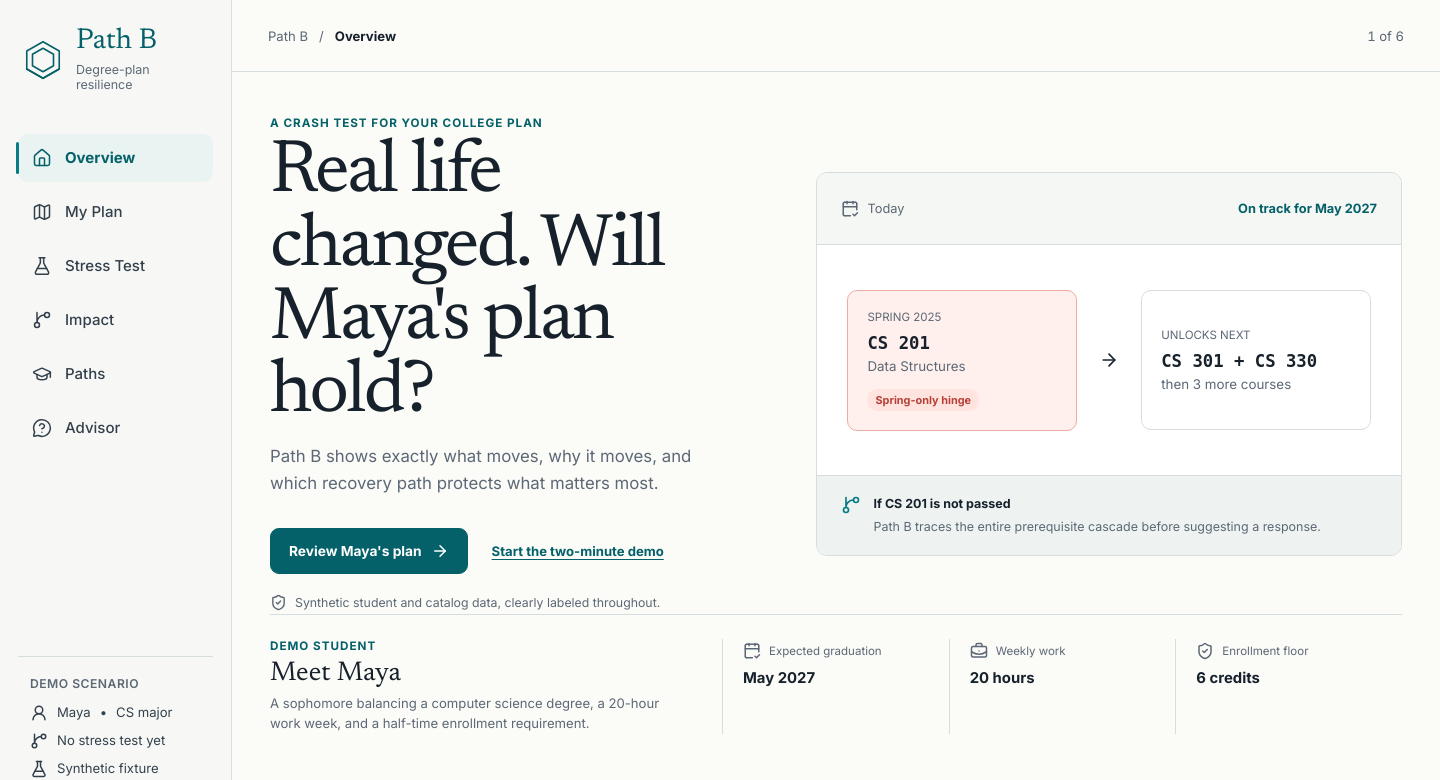
App › clears the scenario and returns to the stress test
The image size is (1440, 780).
Click the link "Start the two-minute demo": (578,551) [492,543,664,559]
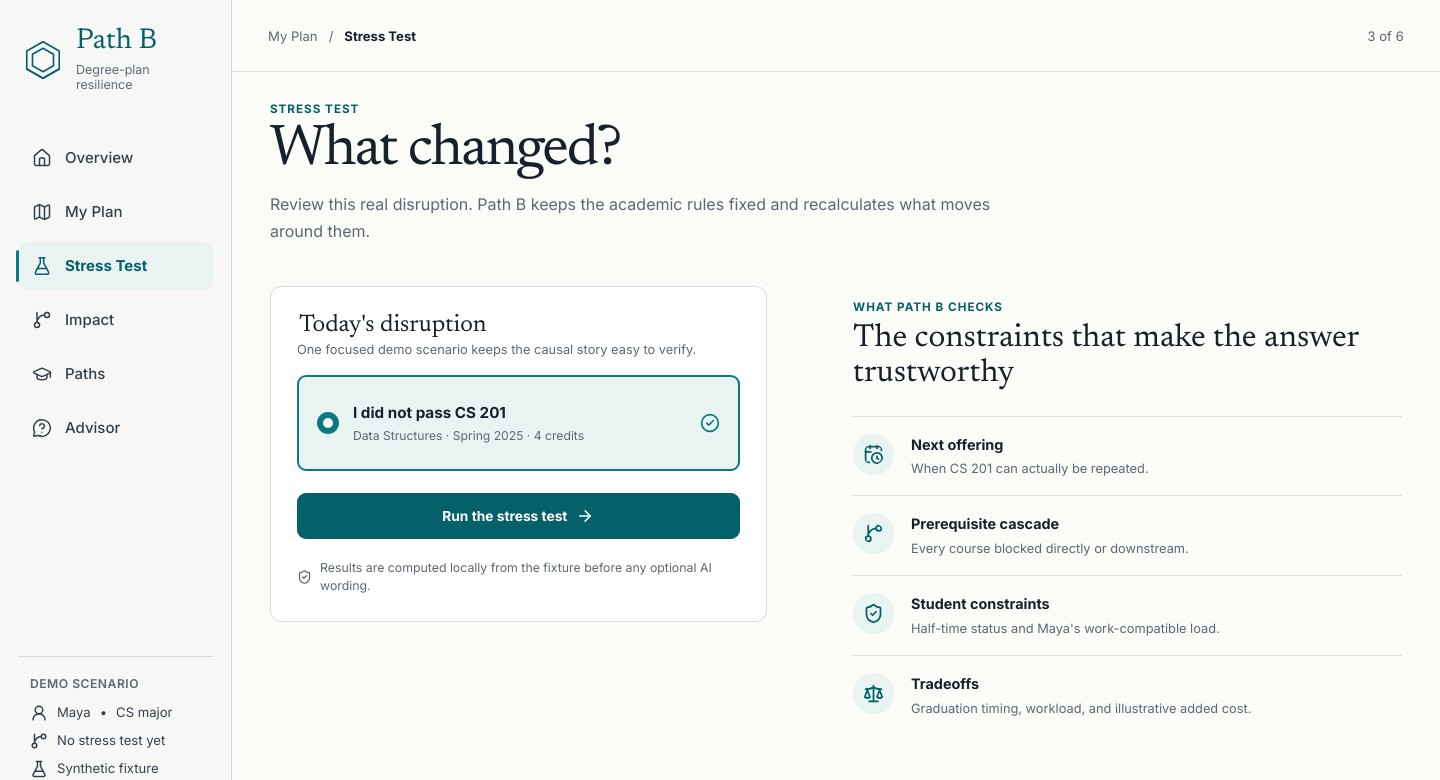
Expected: the radio button labelled "I did not pass CS 201" is checked, [297,375,740,471]
Click the button "Run the stress test": (518,516) [297,493,740,539]
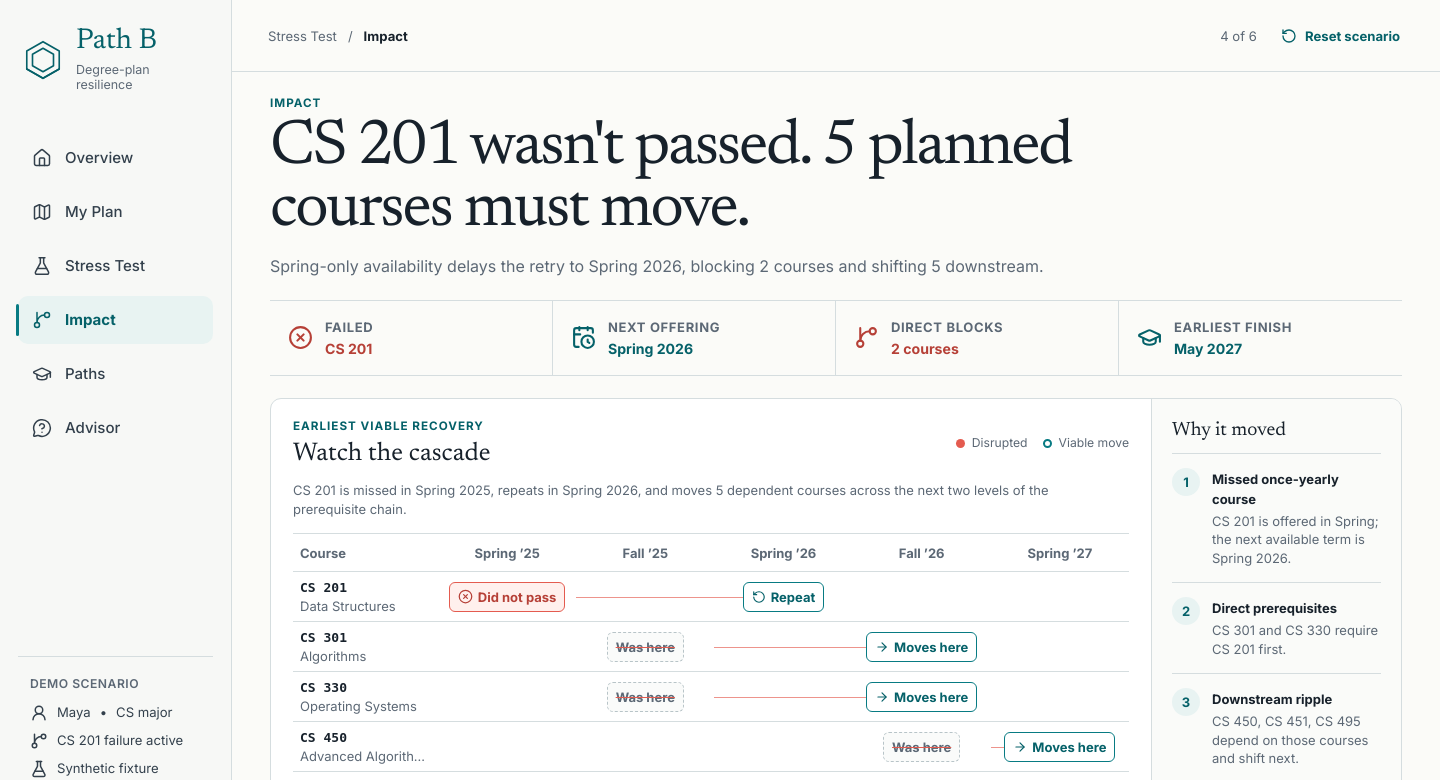
Click the button "Reset scenario": (1340,36) [1277,14,1404,56]
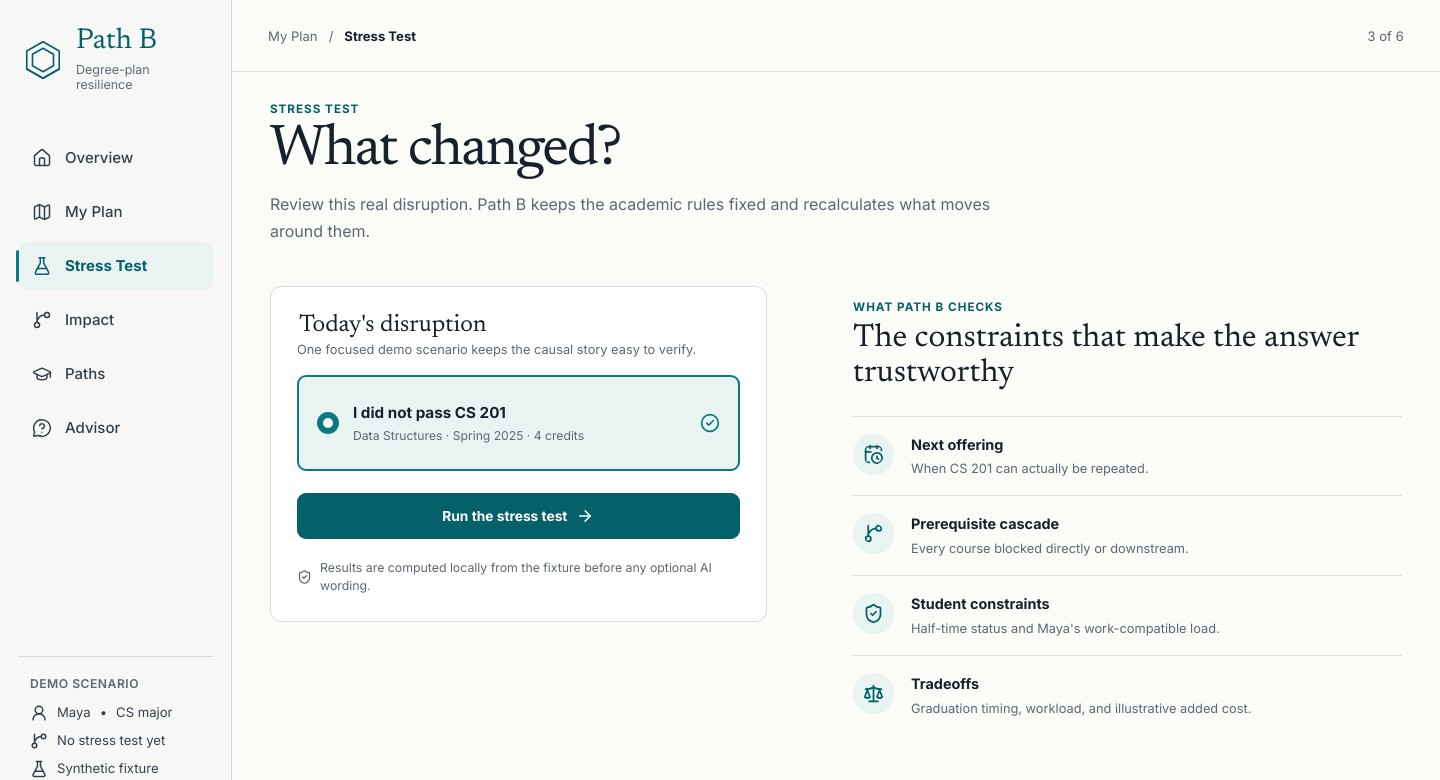
Expected: the heading "What changed?" is shown, [270,122,620,179]
